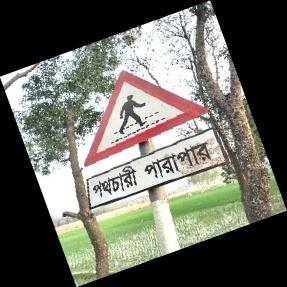Pedestrian-crossing: (82, 69, 227, 212)
